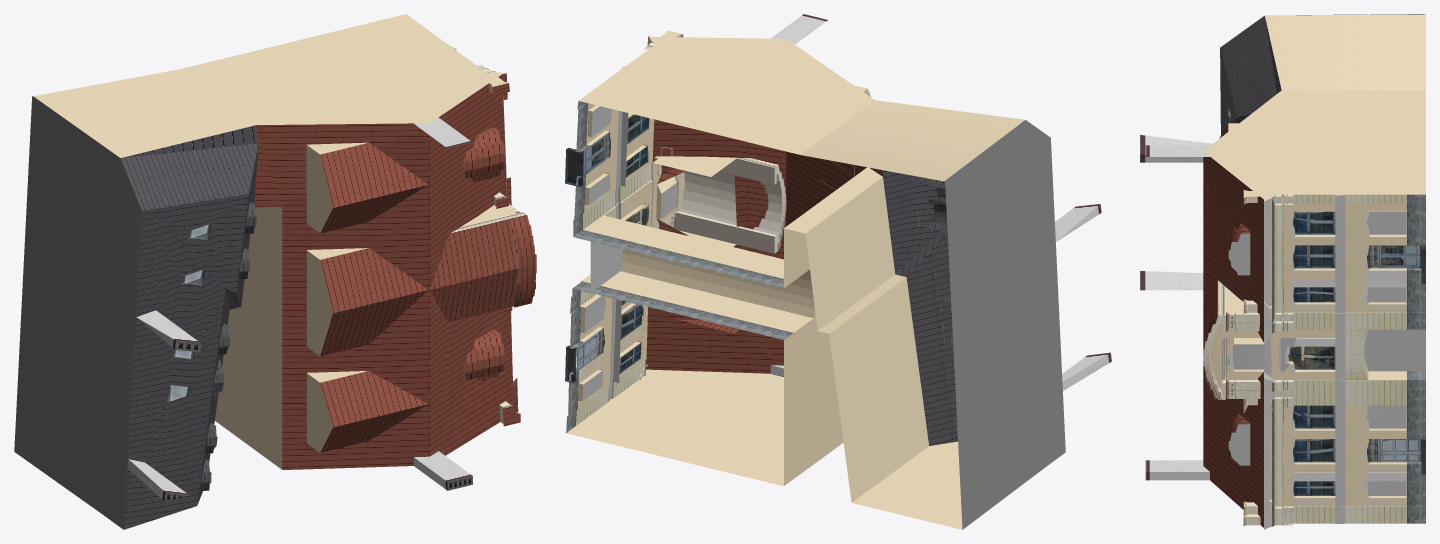
Rendered from Vana-Viru_5-origo.obj.
3 views of the same model, side by side, from view 1: azimuth 30°, elevation 25°; view 2: azimuth 150°, elevation 25°; view 3: azimuth 270°, elevation 25° (orthographic). The views are drawn at different scales.
Parts seen in each view (by area): view 1: Vana_Viru_5; view 2: Vana_Viru_5; view 3: Vana_Viru_5.
Boxes of the visible parts, left/top/right/bottom form: Vana_Viru_5: left=14, top=14, right=536, bottom=529; Vana_Viru_5: left=565, top=14, right=1111, bottom=529; Vana_Viru_5: left=1140, top=14, right=1425, bottom=529.
Bounding box in the file's own units: 25 × 20 × 15.64.
